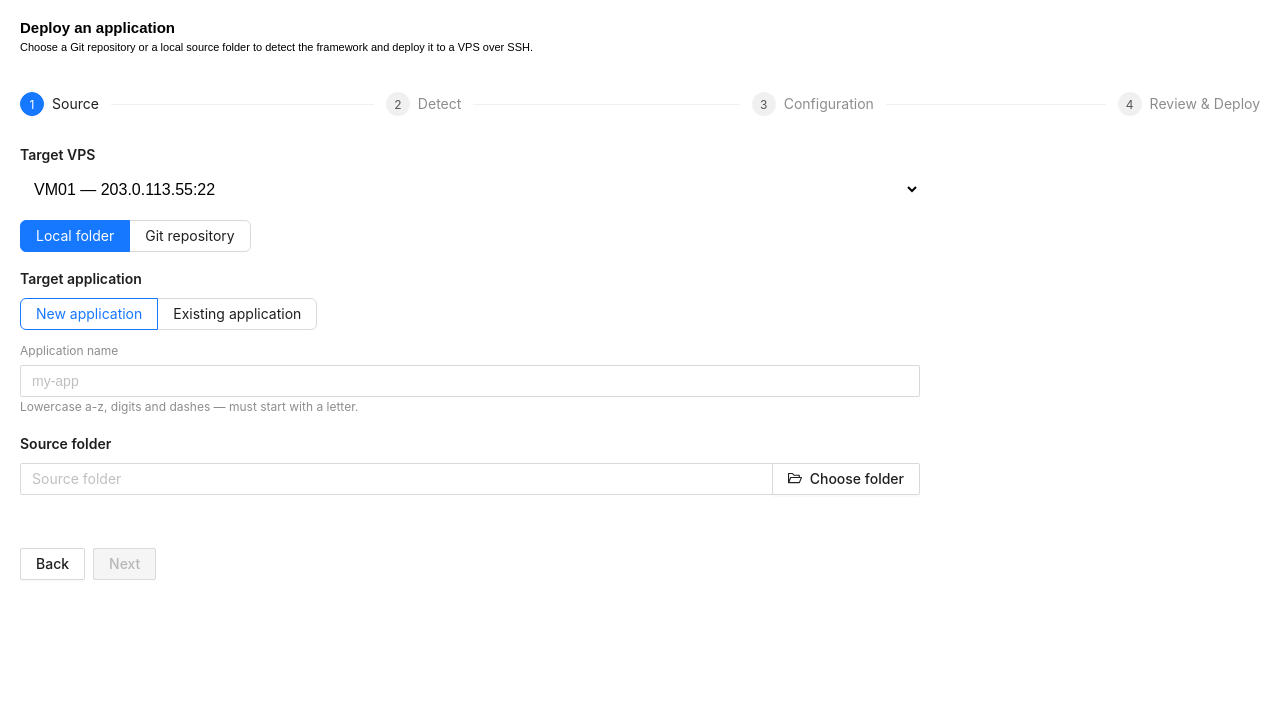
Test case: DeployPage — wizard va log › detect khong khop: buoc Nhan dien hien card do kem cac dau hieu, khong di tiep duoc
Click the button "Choose folder".
click(846, 479)  # box [772, 463, 920, 495]
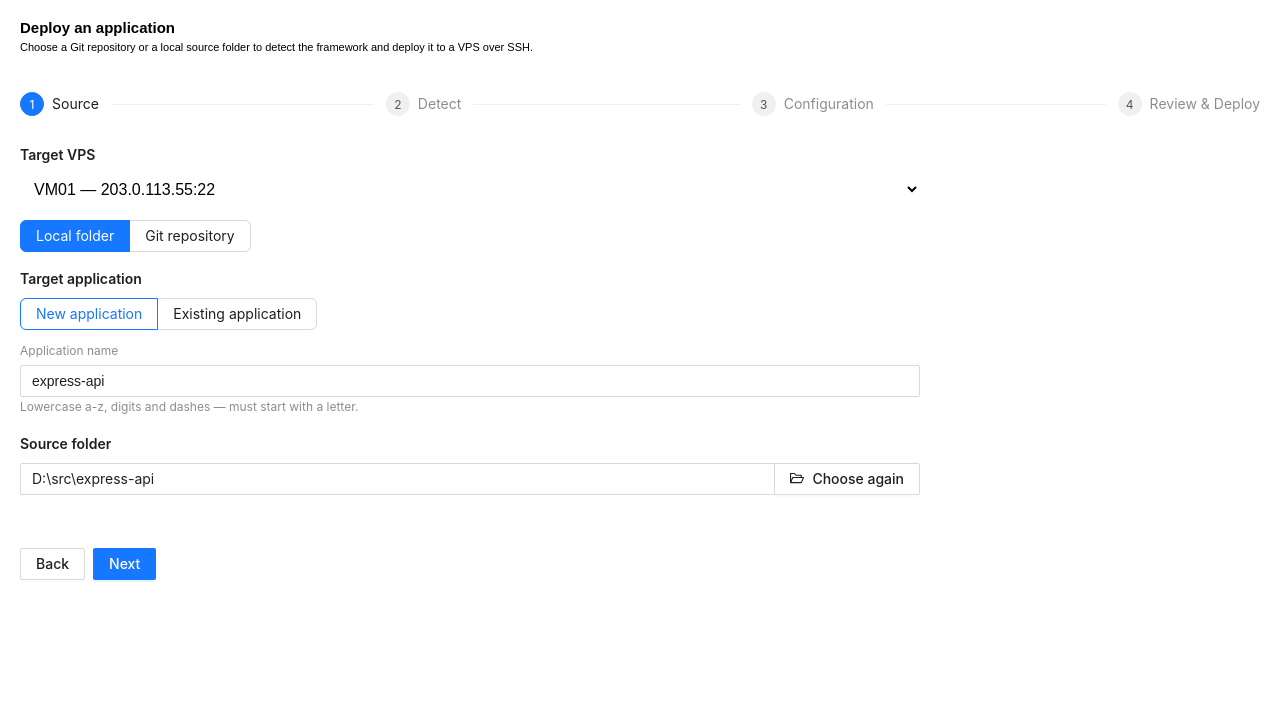
Now the 2nd field showing "D:\\src\\express-api" is shown, box [20, 463, 775, 495]
Click the button "Next".
click(125, 564)  # box [93, 548, 156, 580]
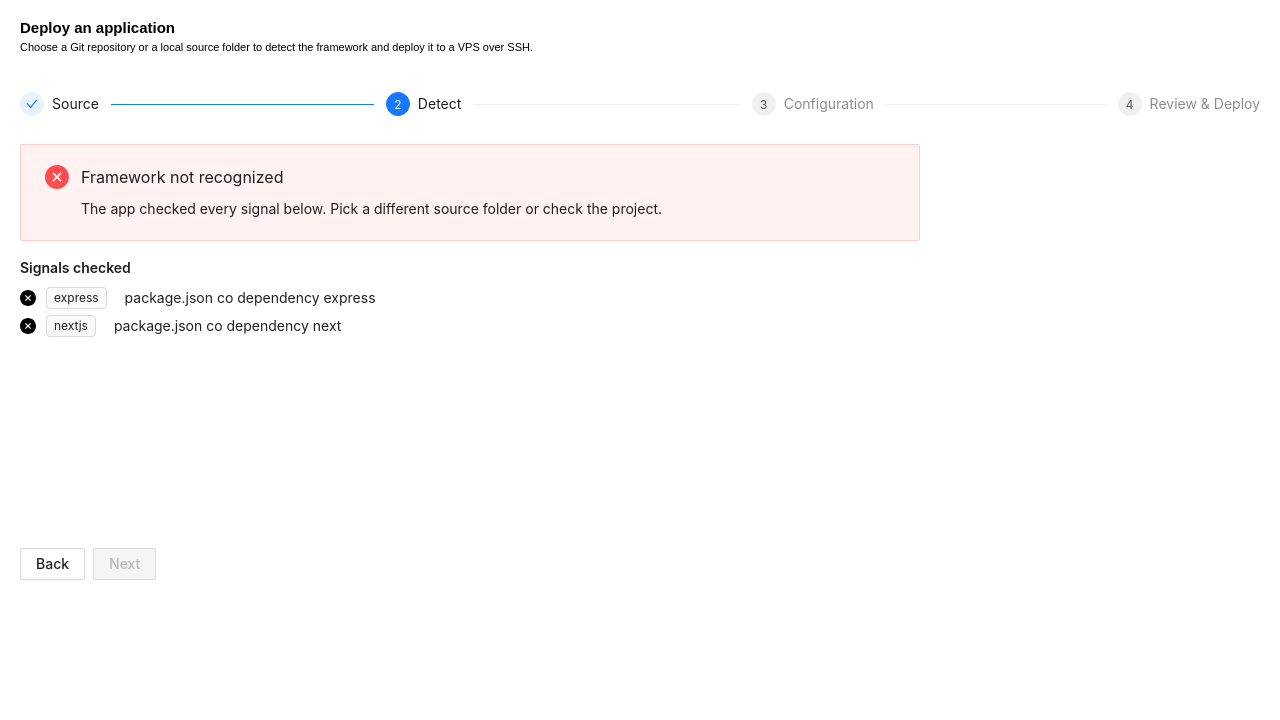
Now the text "Framework not recognized" is shown, box [81, 167, 284, 187]
Now the text "package.json co dependency express" is shown, box [125, 289, 376, 306]
Now the button "Next" is disabled, box [93, 548, 156, 580]
